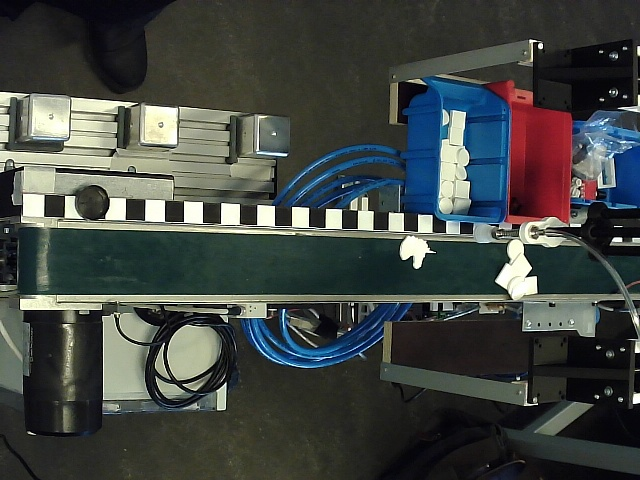unicorn: (399, 235, 437, 270)
